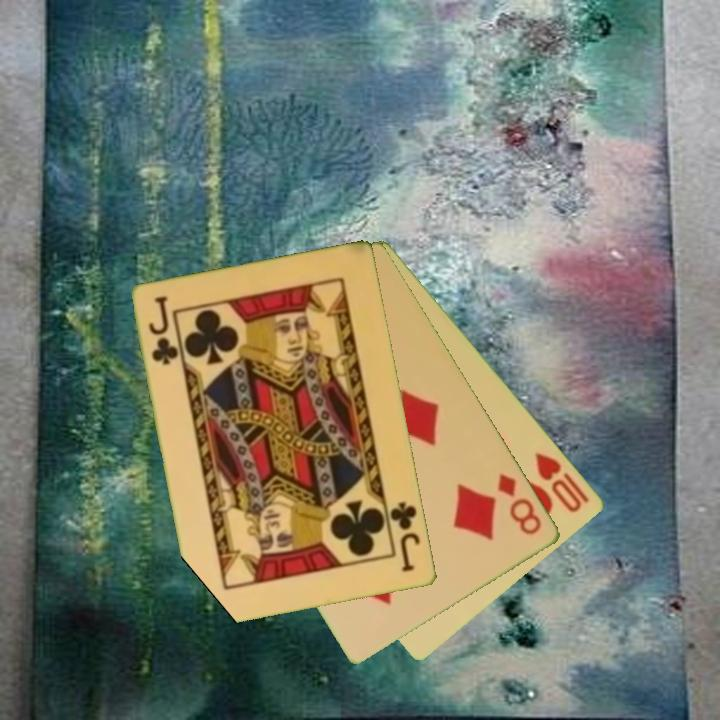10h: (531, 449, 593, 516)
8d: (494, 470, 546, 538)
Jc: (387, 498, 424, 576), (145, 292, 181, 369)
